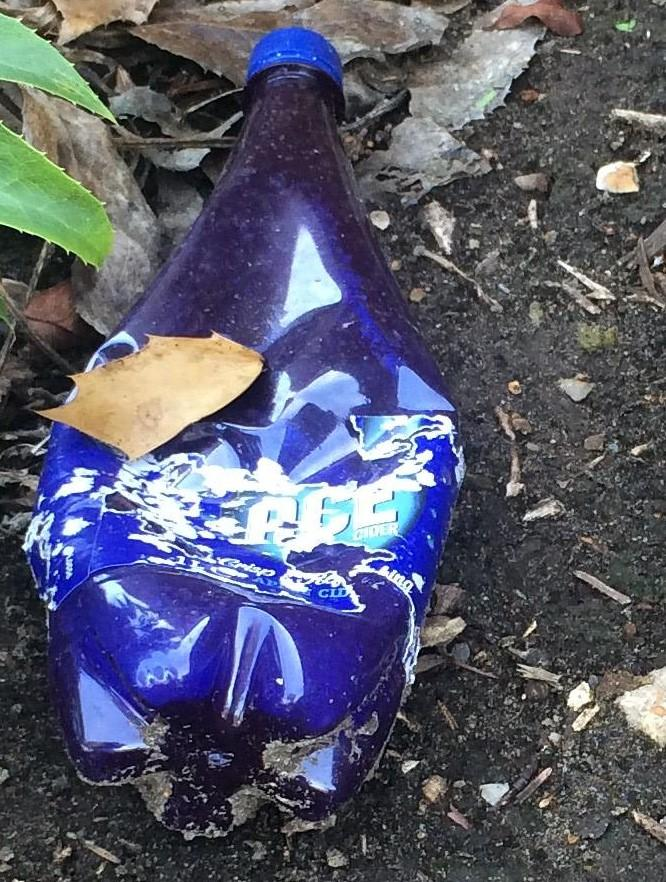Plastic: (13, 23, 496, 864)
